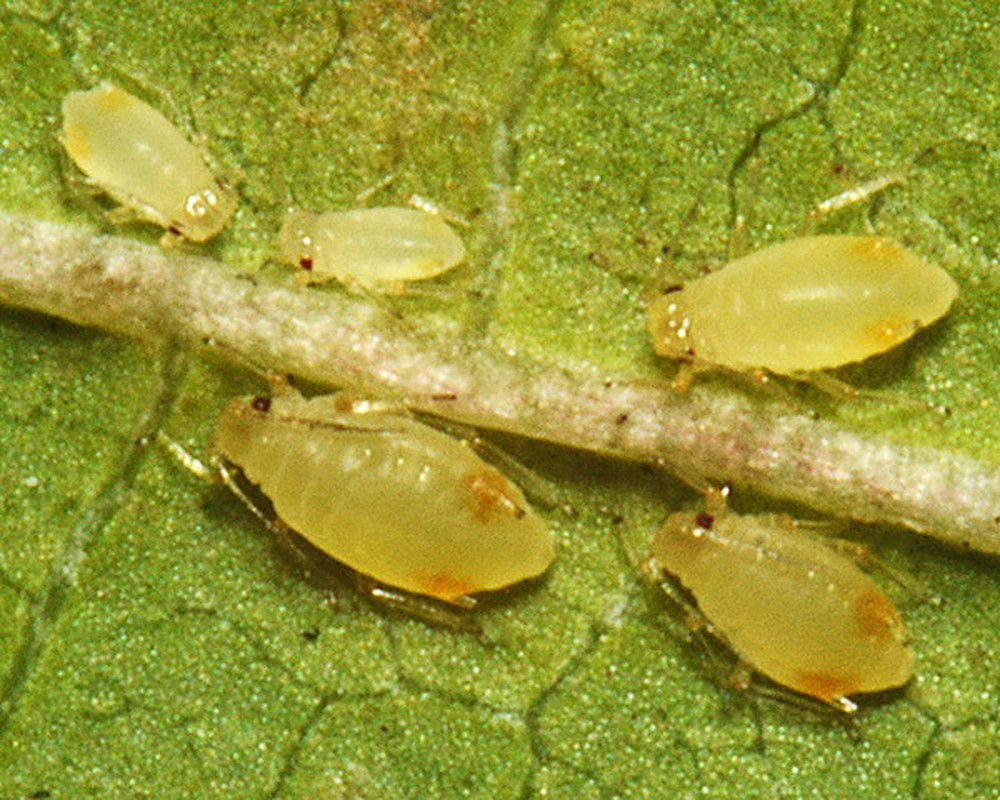Pulgon: (169, 344, 571, 655), (612, 471, 947, 758), (616, 191, 983, 450), (37, 67, 256, 274), (266, 175, 493, 334)
